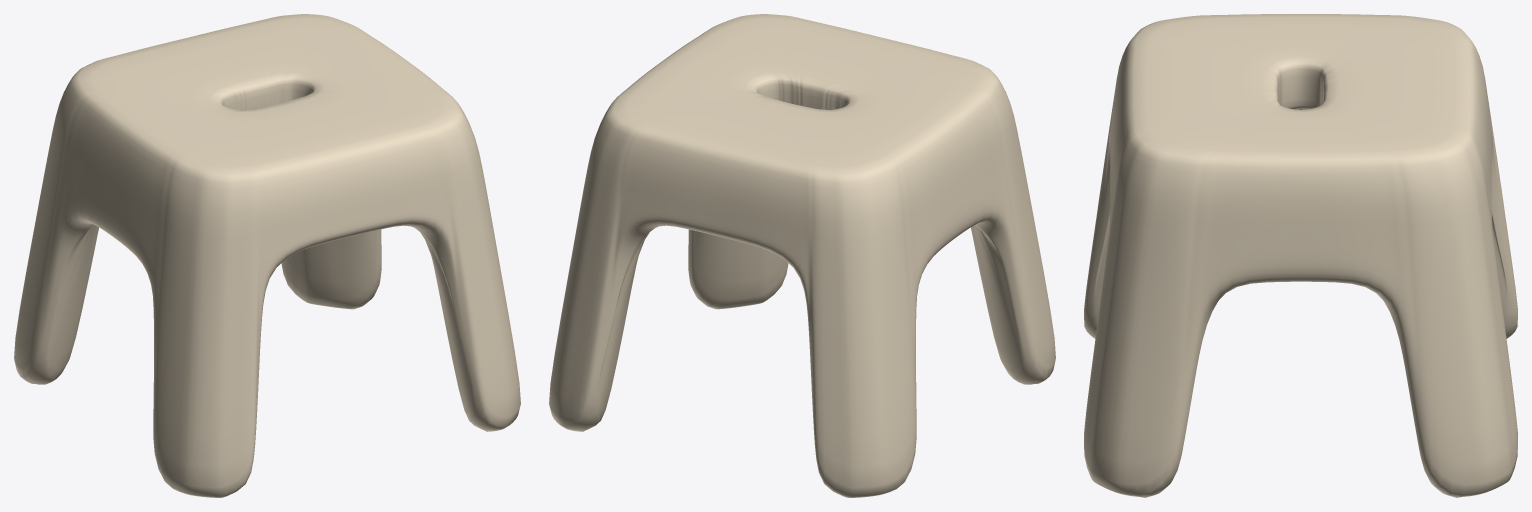
Rendered from comparison-high.glb.
The picture shows the model from 3 angles, left to right: view 1: azimuth 30°, elevation 25°; view 2: azimuth 150°, elevation 25°; view 3: azimuth 270°, elevation 25°; orthographic projection. The views are drawn at different scales.
Visible parts, largest first — view 1: bath_stool_comparison_high; view 2: bath_stool_comparison_high; view 3: bath_stool_comparison_high.
Part boxes in pixels (x1,y1,x2,y2): bath_stool_comparison_high: (14,14,520,497); bath_stool_comparison_high: (549,14,1055,497); bath_stool_comparison_high: (1084,14,1517,497).
Bounding box in the file's own units: 0.36 × 0.3 × 0.36.
